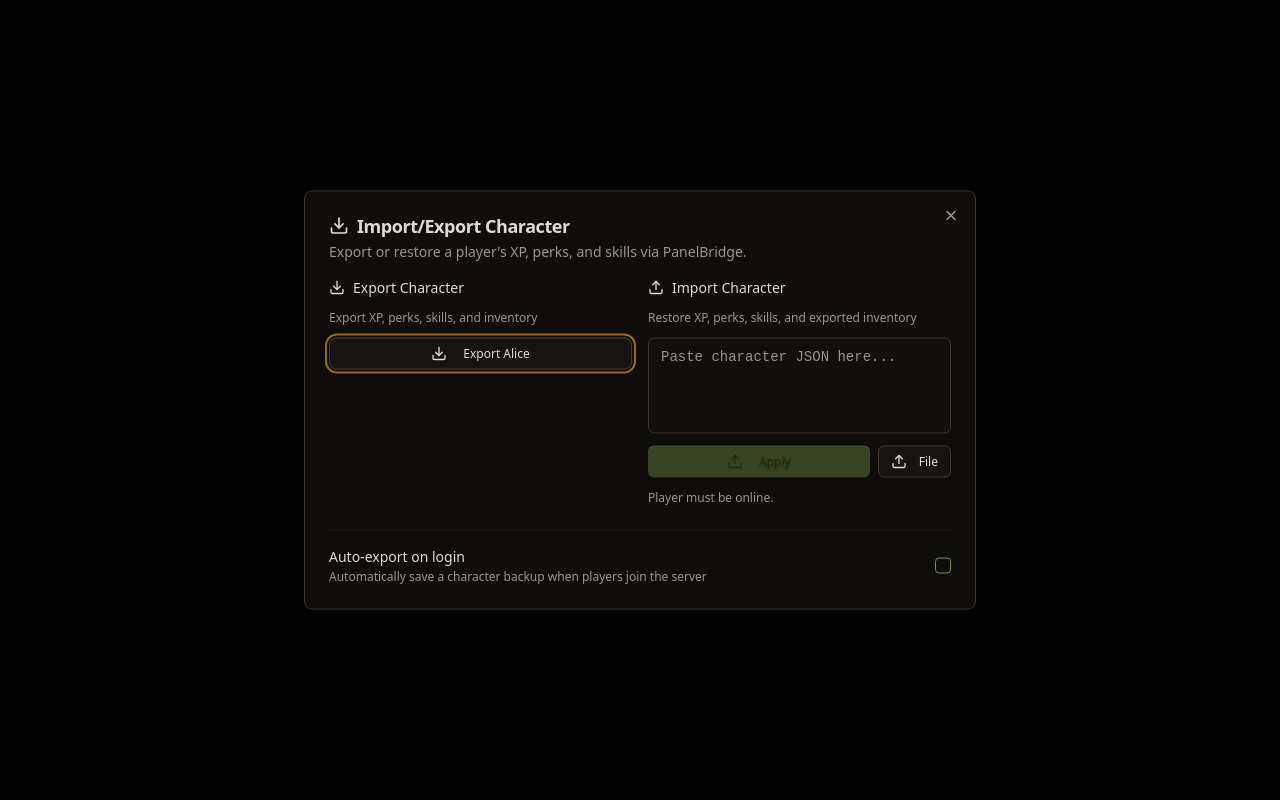
CharacterImportExportDialog › exports the character of the player it is given and shows the JSON
What coordinates should you click on to do the following:
click the button "Export Alice"
I would click on:
 (480, 354)
Its box is x1=329 y1=338 x2=632 y2=370.
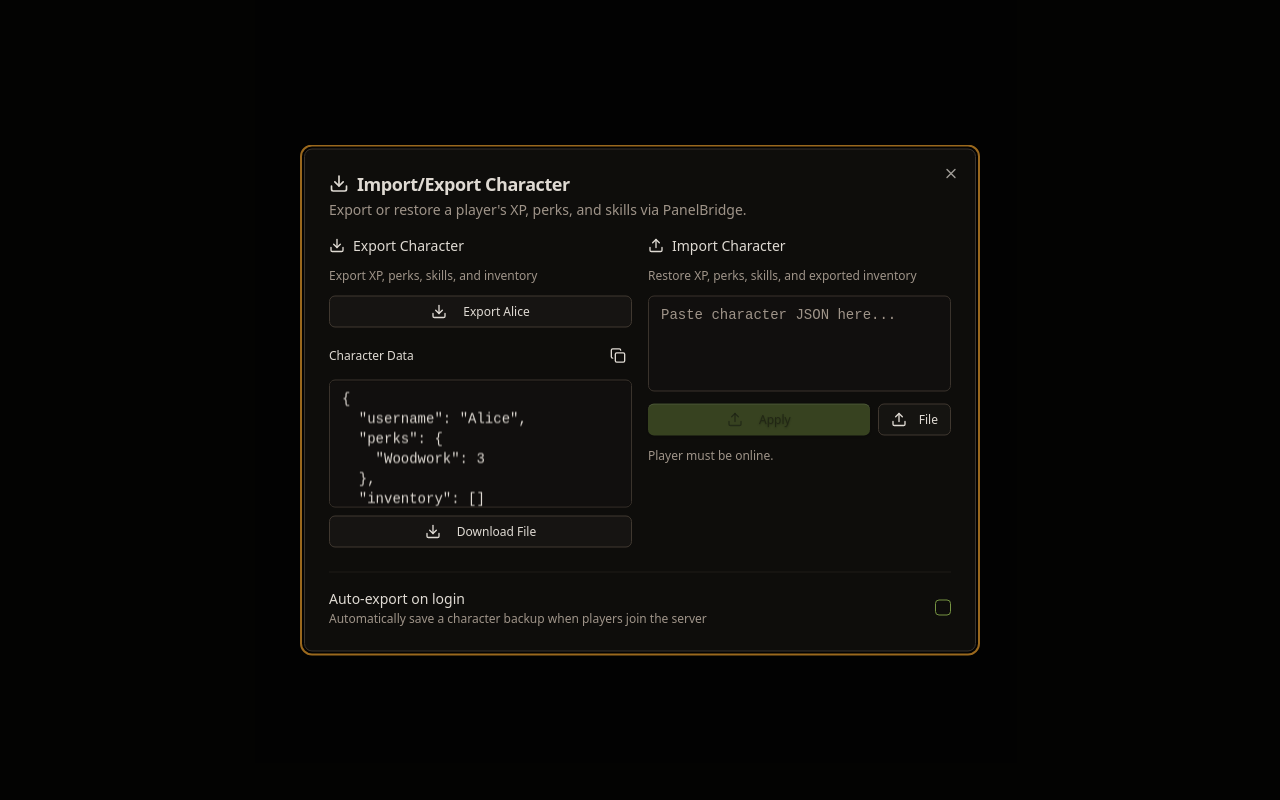
Check: the button named "Copy character data" is shown, box x1=604 y1=340 x2=632 y2=372
